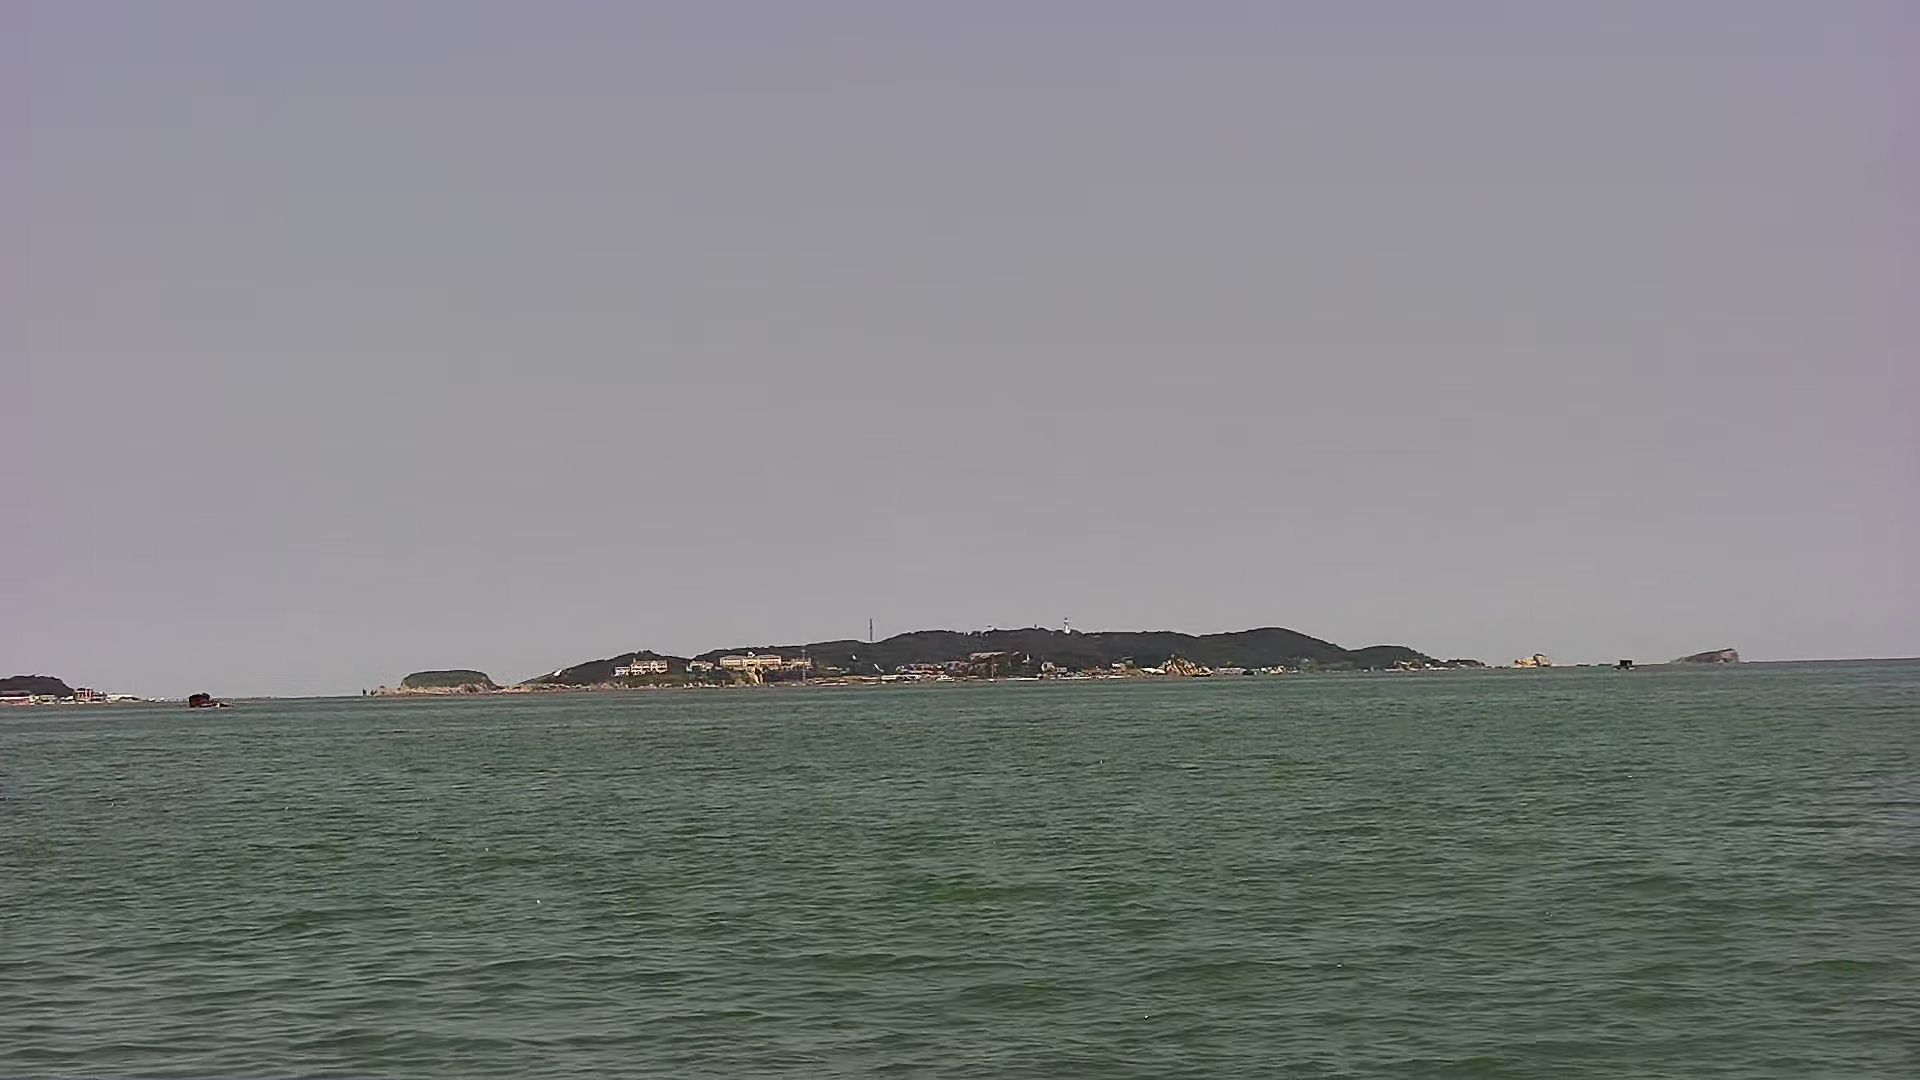rock: (373, 612, 1764, 694)
